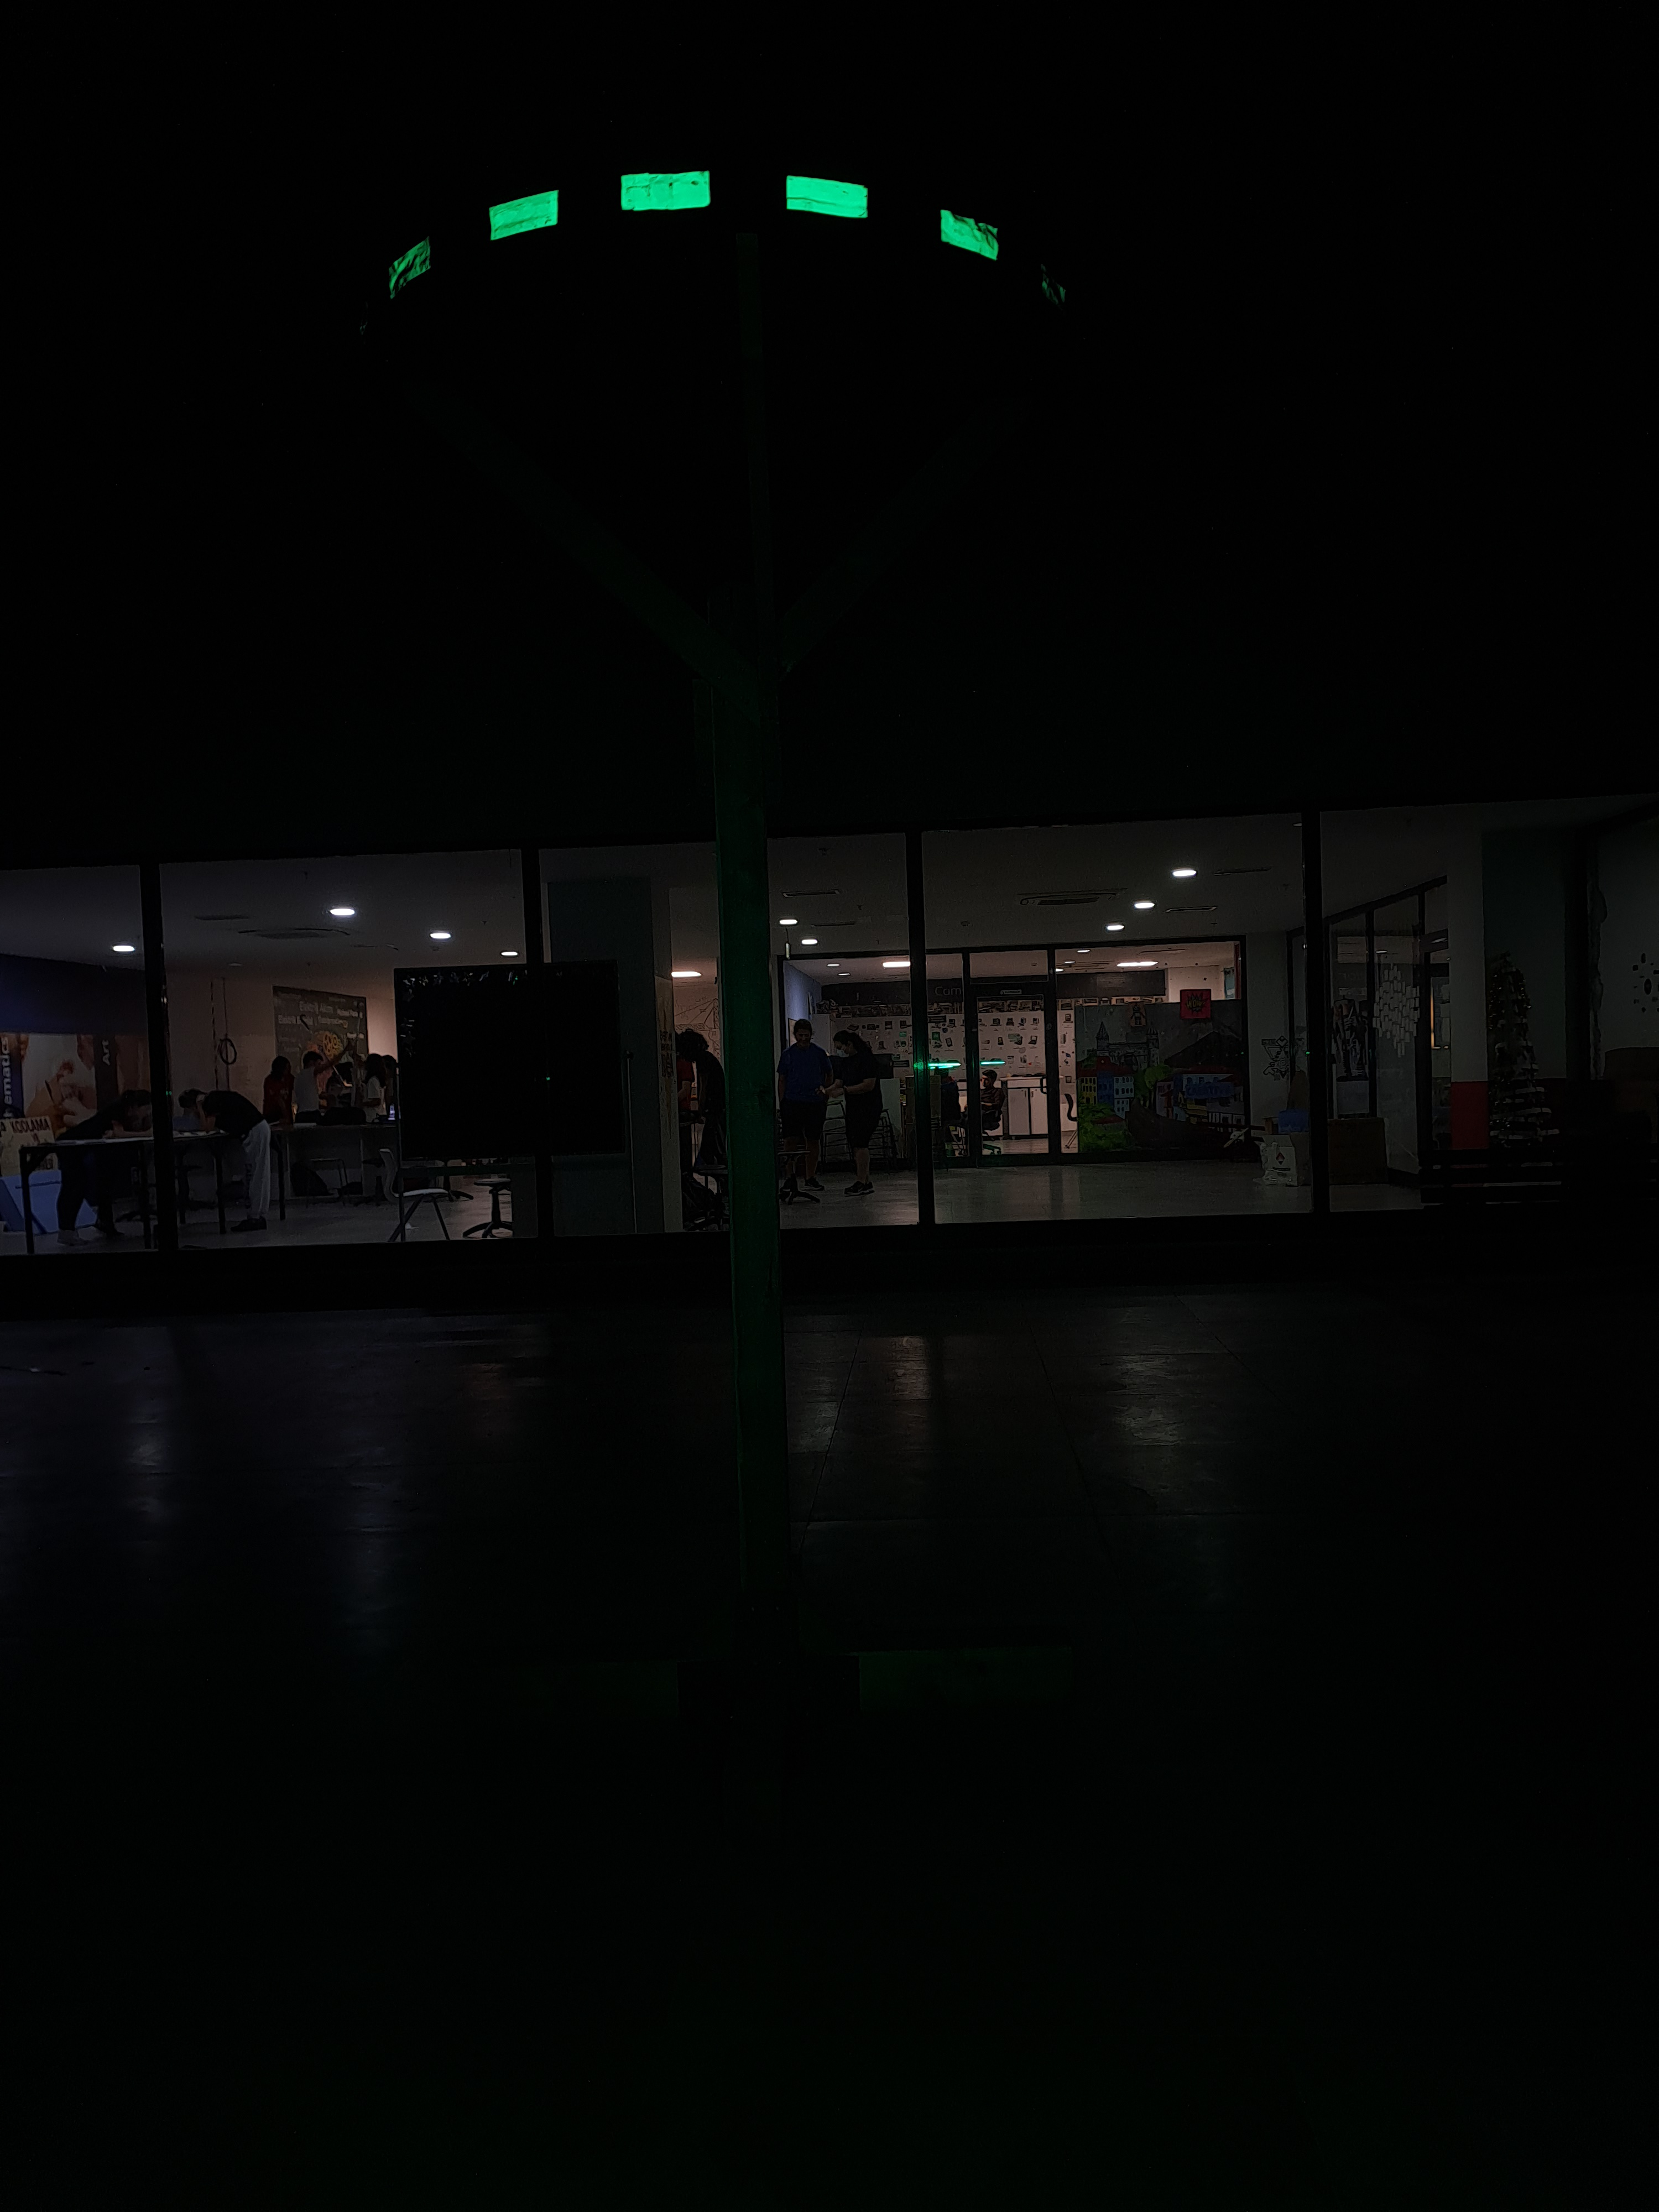hoop: (390, 169, 1068, 310)
